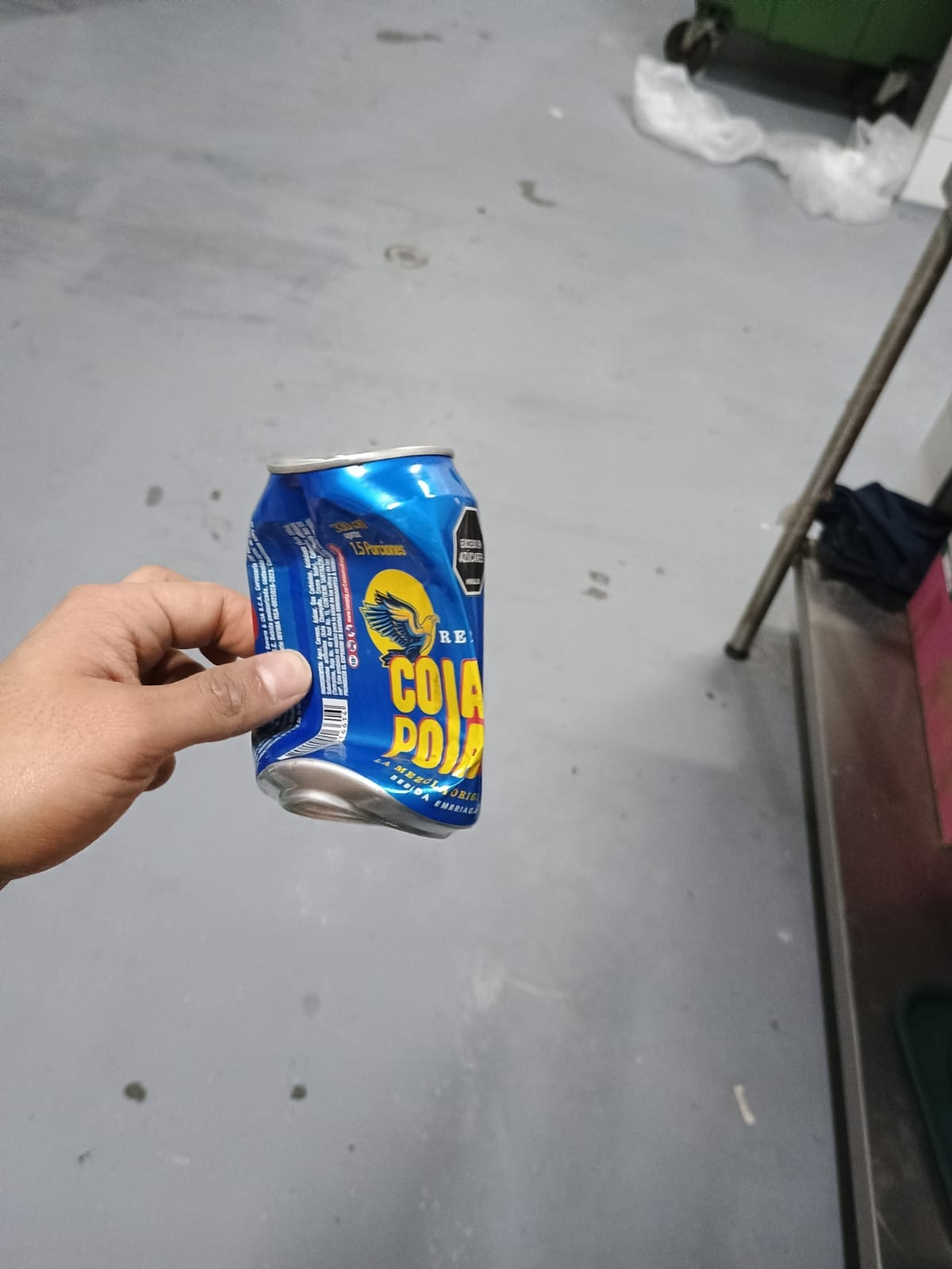Metal: (251, 448, 485, 837)
